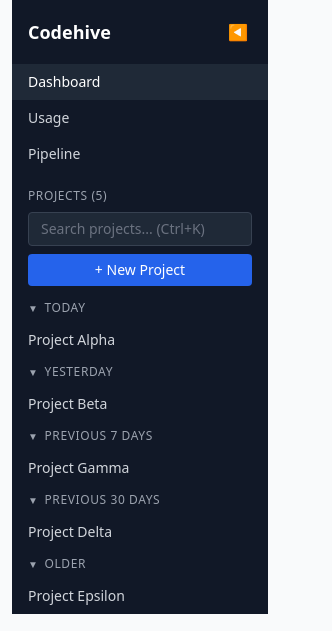
Test: Sidebar › groups are collapsible
The width and height of the screenshot is (332, 631).
Check: the link "Project Alpha" is shown, box [28, 330, 115, 349]
Note: Click "Today" group header to collapse
What coordinates should you click on to do the following:
click the button with test id "time-group-toggle-today"
I would click on:
 (140, 308)
Its box is [12, 294, 268, 322].
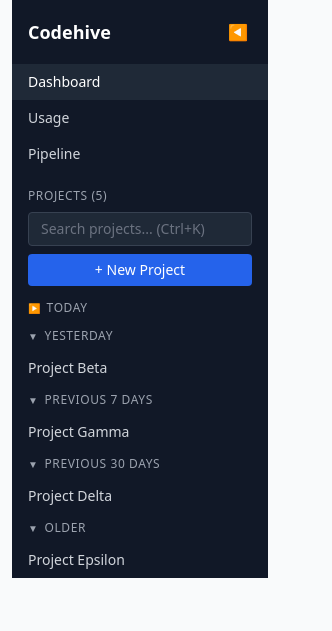
Check: the link "Project Alpha" is gone
Note: Click again to expand
What coordinates should you click on to do the following:
click the button with test id "time-group-toggle-today"
I would click on:
 (140, 308)
Its box is [12, 294, 268, 322].
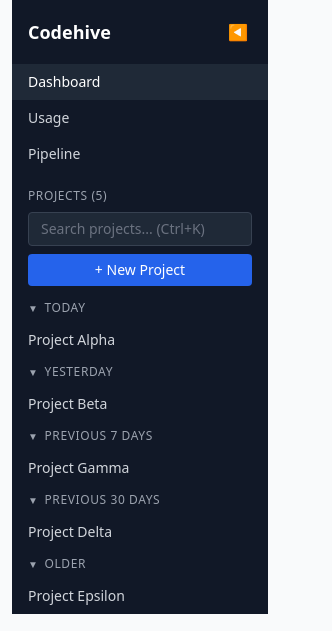
Check: the link "Project Alpha" is shown, box [28, 330, 115, 349]
